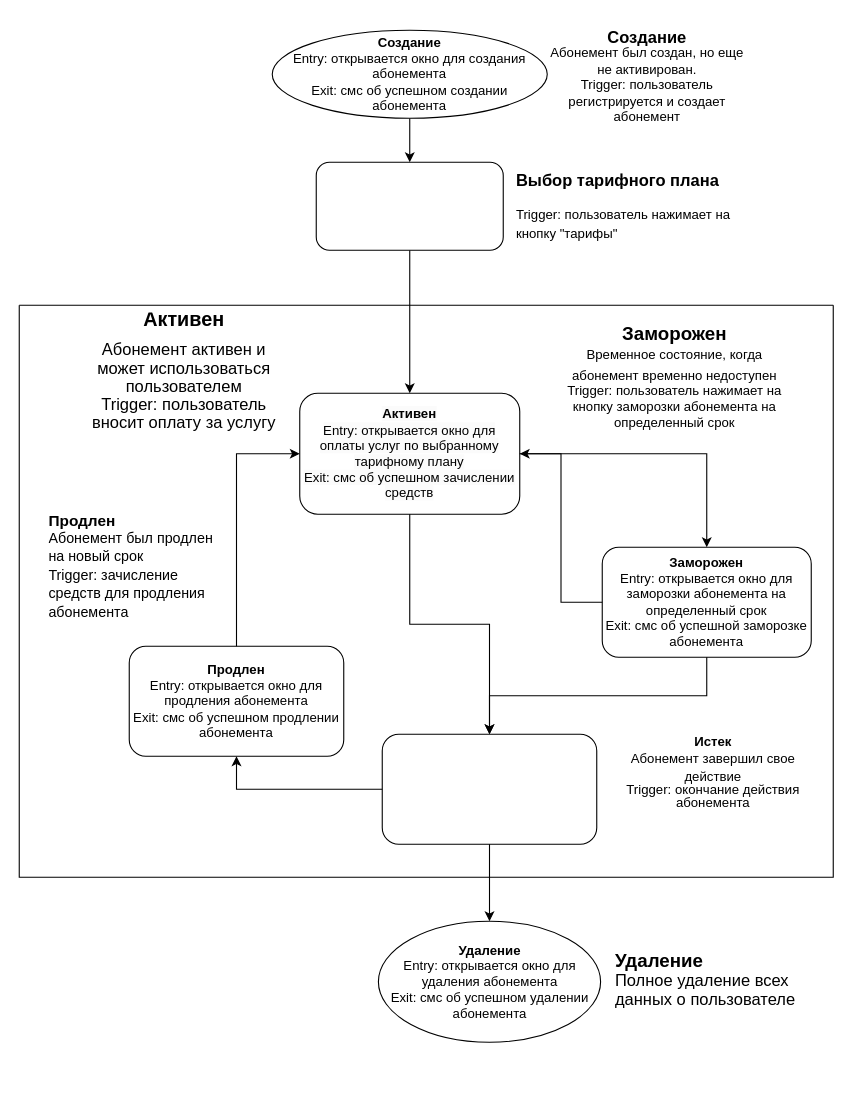
Some shapes in this 853 by 1097 pixel diagram are drawn without their labels. Here are the shapes that lost their labels. From the top down, the box of each, then its label:
(315, 161, 503, 250): Выбор тарифного плана Entry: открывается окно с доступным ассортиментом услуг
(381, 733, 597, 844): Истек Exit: смс об окончании срока действия абонемента
